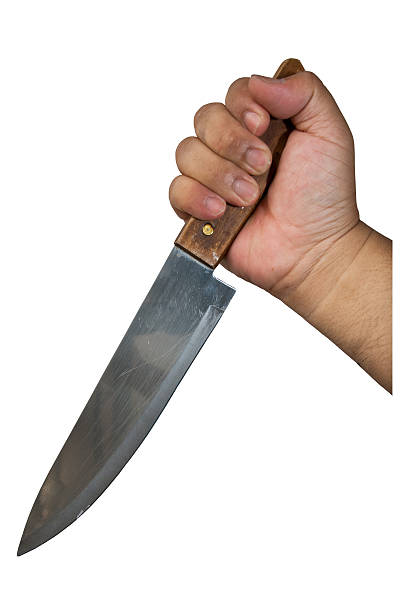knife: (15, 56, 308, 561)
